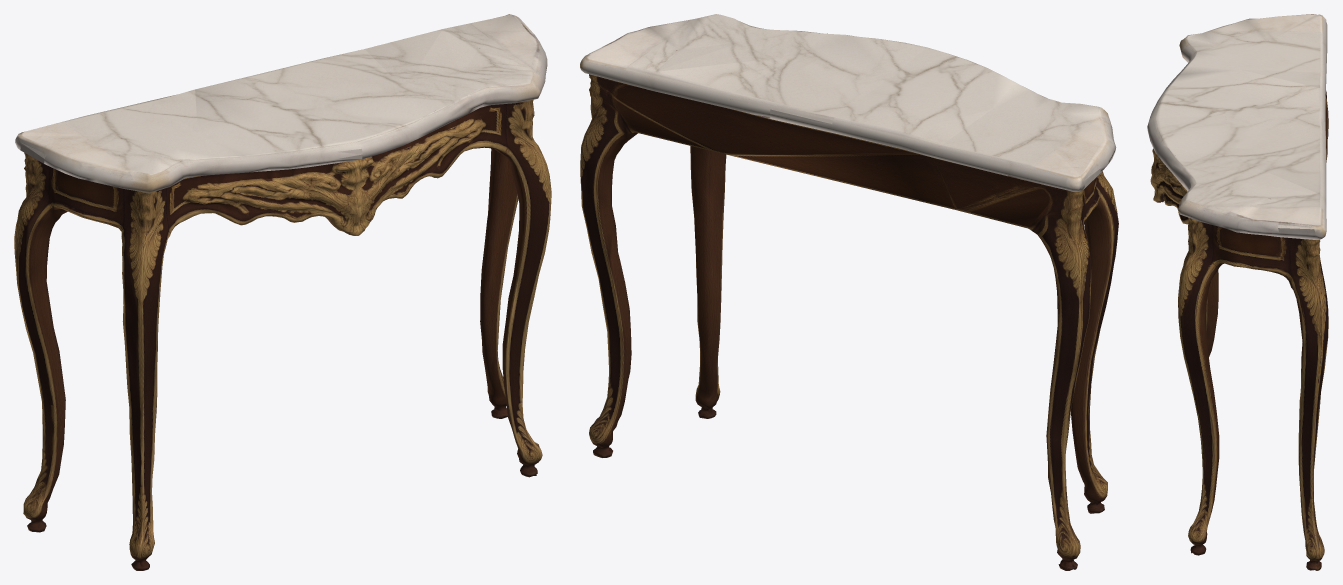
File: rrr_prop_console_v1.glb
3 renders of one model, left to right at view 1: azimuth 30°, elevation 25°; view 2: azimuth 150°, elevation 25°; view 3: azimuth 270°, elevation 25°, orthographic. The views are drawn at different scales.
Visible parts, largest first — view 1: Mesh_0; view 2: Mesh_0; view 3: Mesh_0.
Boxes of the visible parts, x1,y1,x2,y2 form: Mesh_0: (14,14,551,570); Mesh_0: (580,14,1118,570); Mesh_0: (1147,14,1328,570).
Size of the model in its own units: 0.9796 by 0.75 by 0.3511.
1 material, 1 textured.
